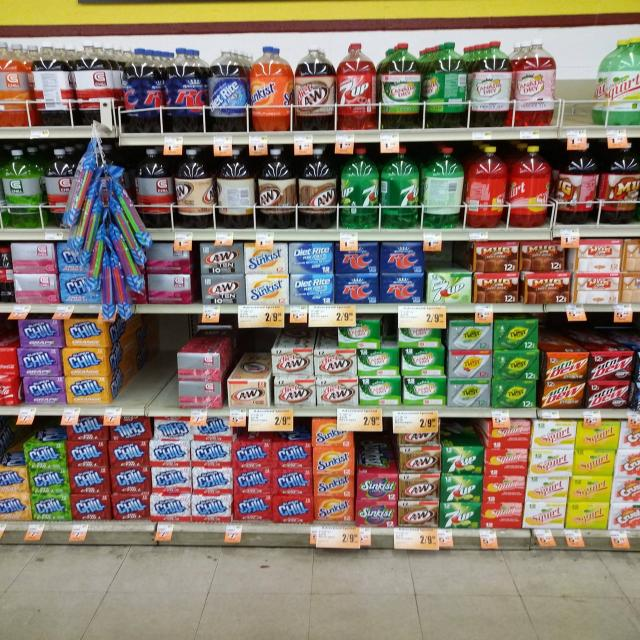void: (112, 316, 174, 418), (564, 36, 601, 140)
